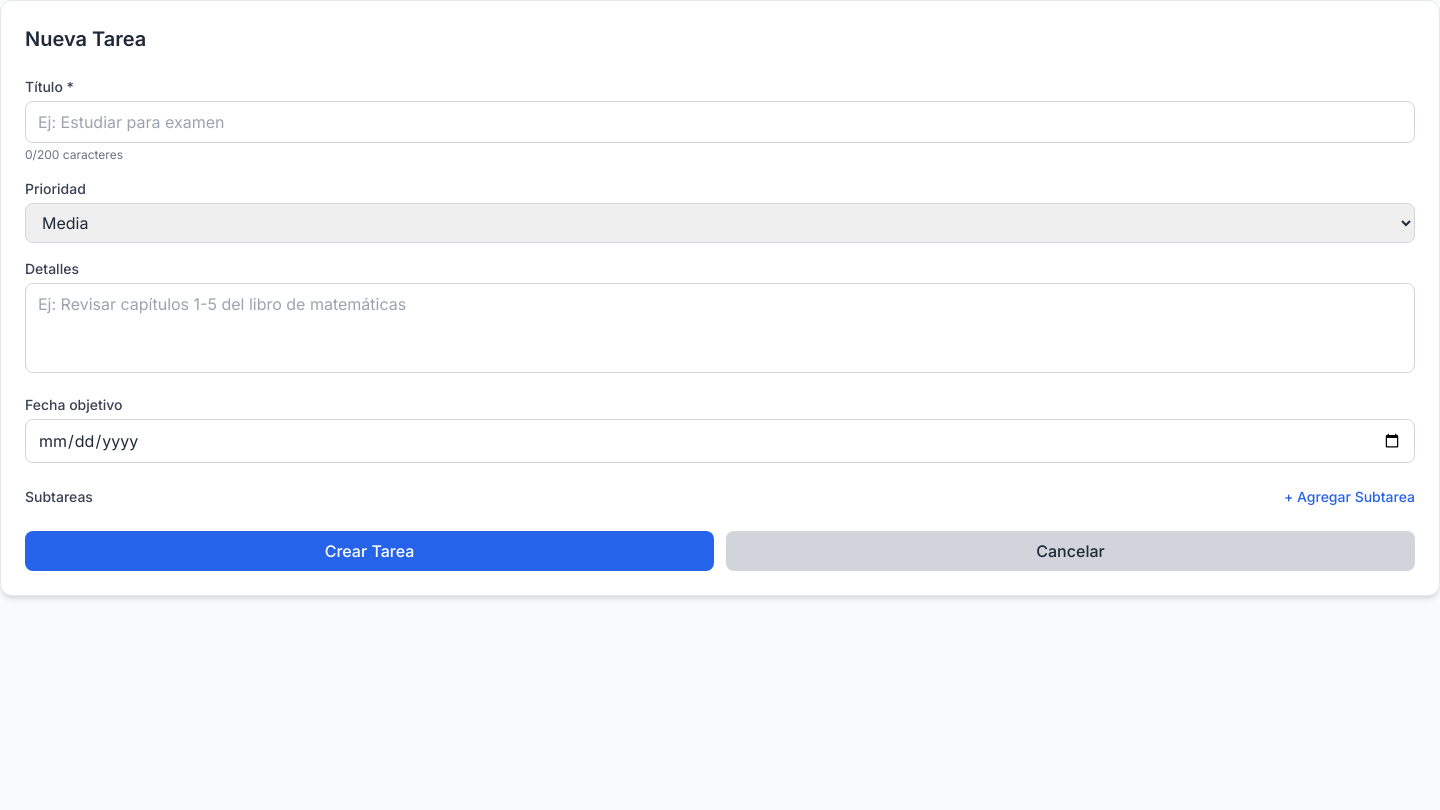
Test: TaskForm Component › Form Validation › should not submit with empty title
# Fill and then clear the title to bypass HTML5 required validation
In the field labelled "Título *": (720, 122) [25, 101, 1415, 143], type "Test"
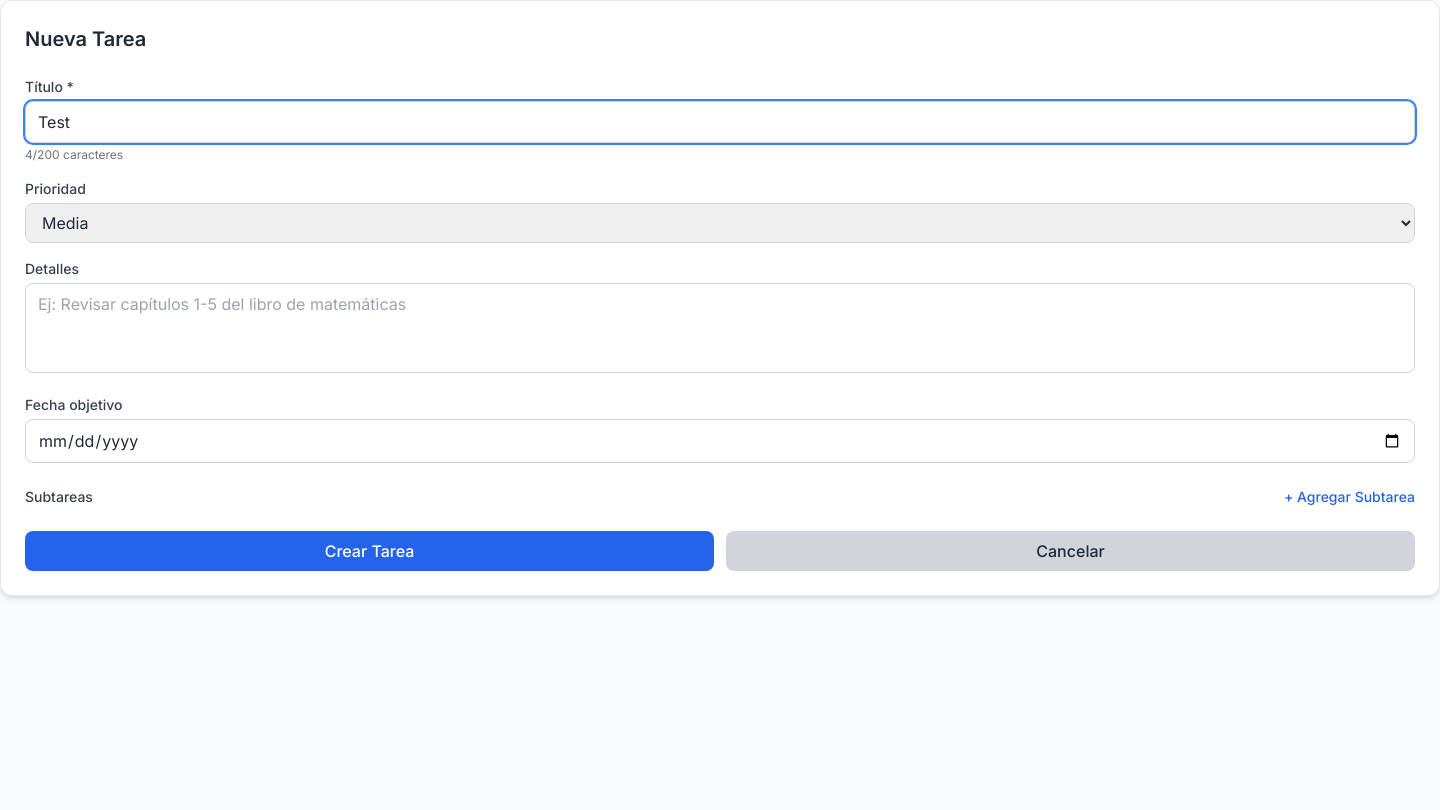
Clear the field labelled "Título *": (720, 122) [25, 101, 1415, 143]
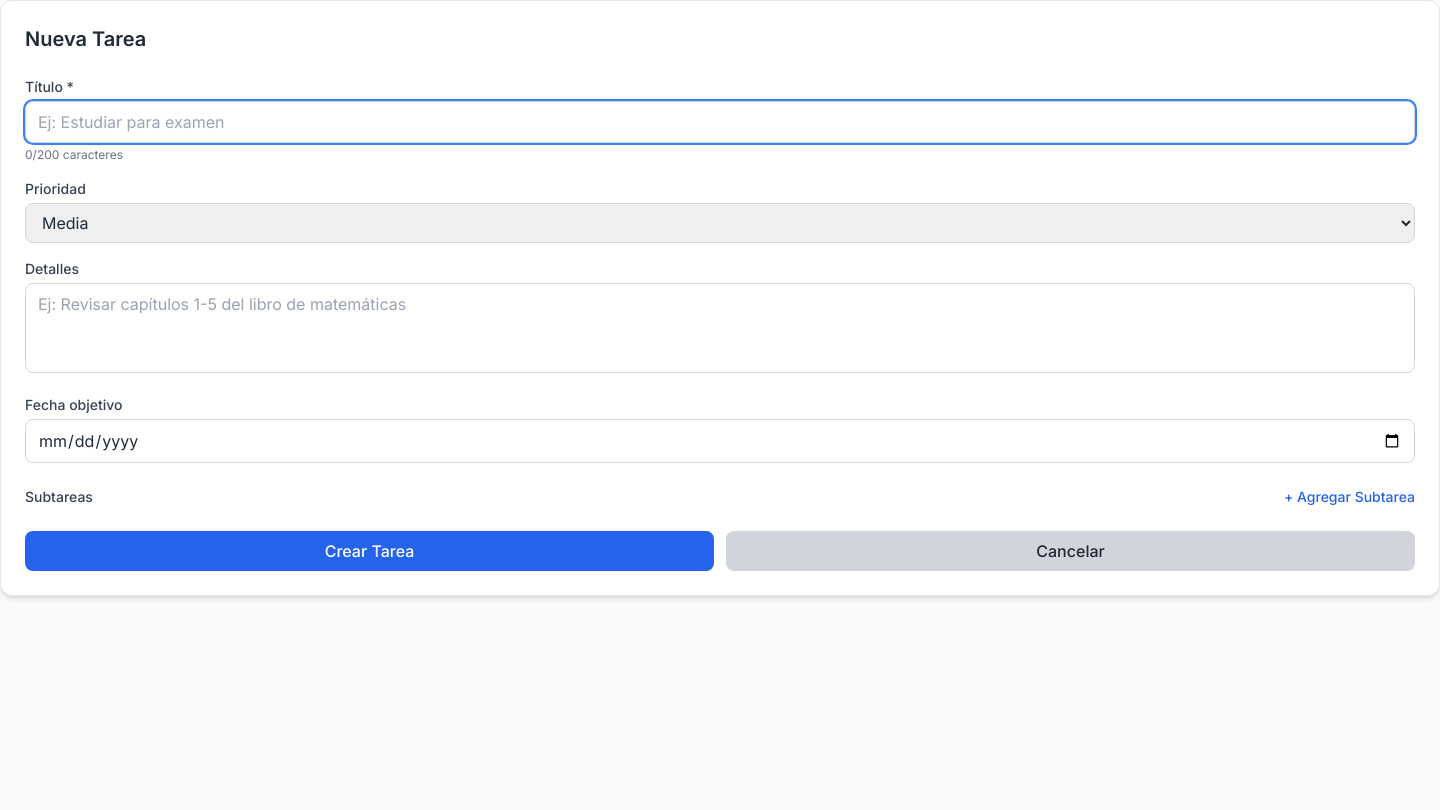
Click the button "Crear Tarea": (370, 551) [25, 531, 714, 571]
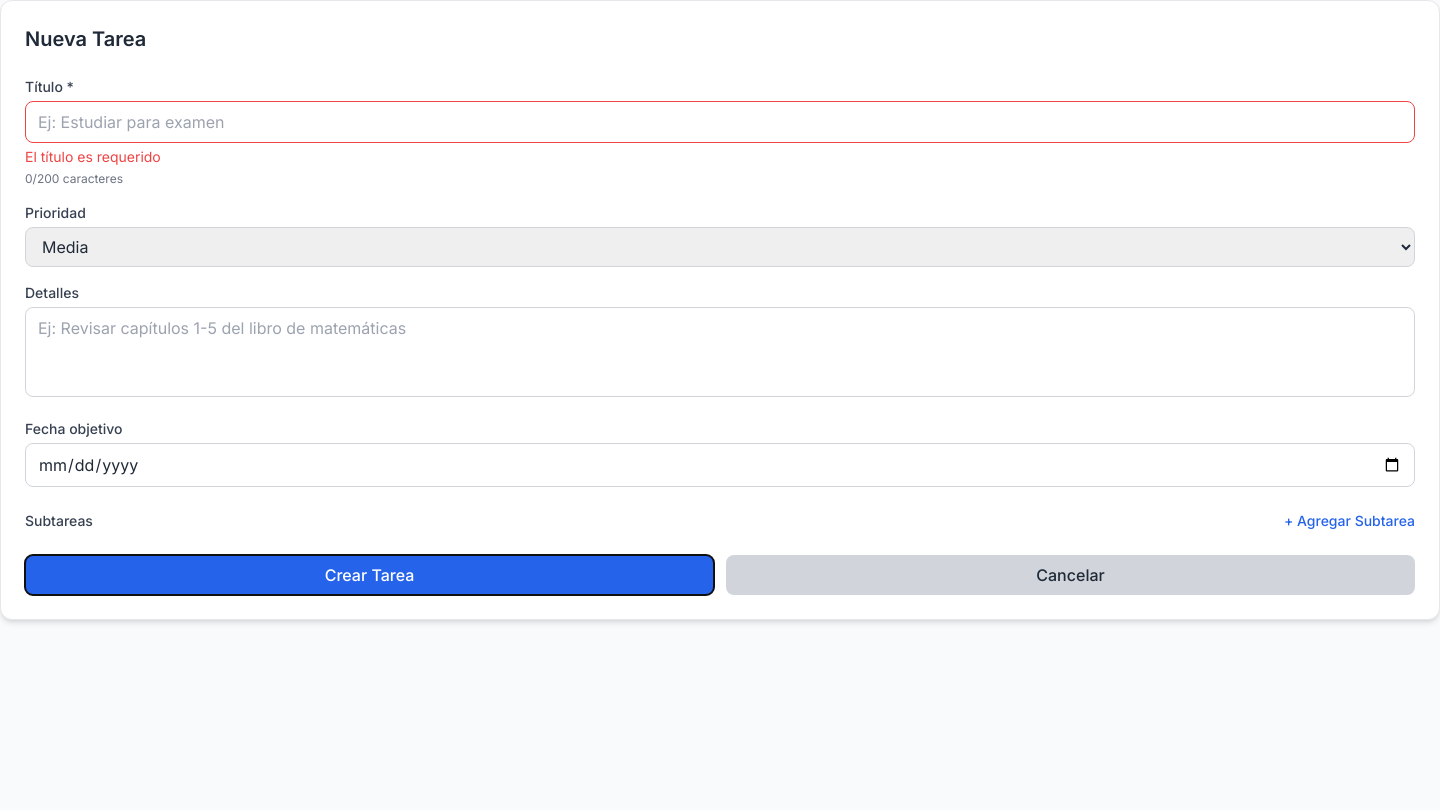
Expected: the text "El título es requerido" is shown, [25, 148, 161, 165]
